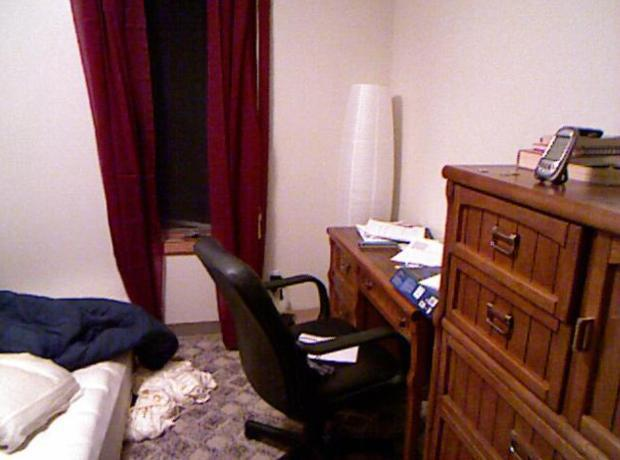Armario: (439, 167, 619, 459)
